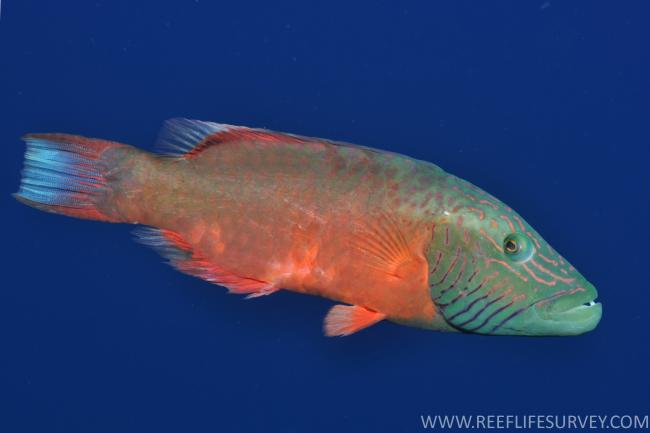fish: (13, 117, 602, 338)
